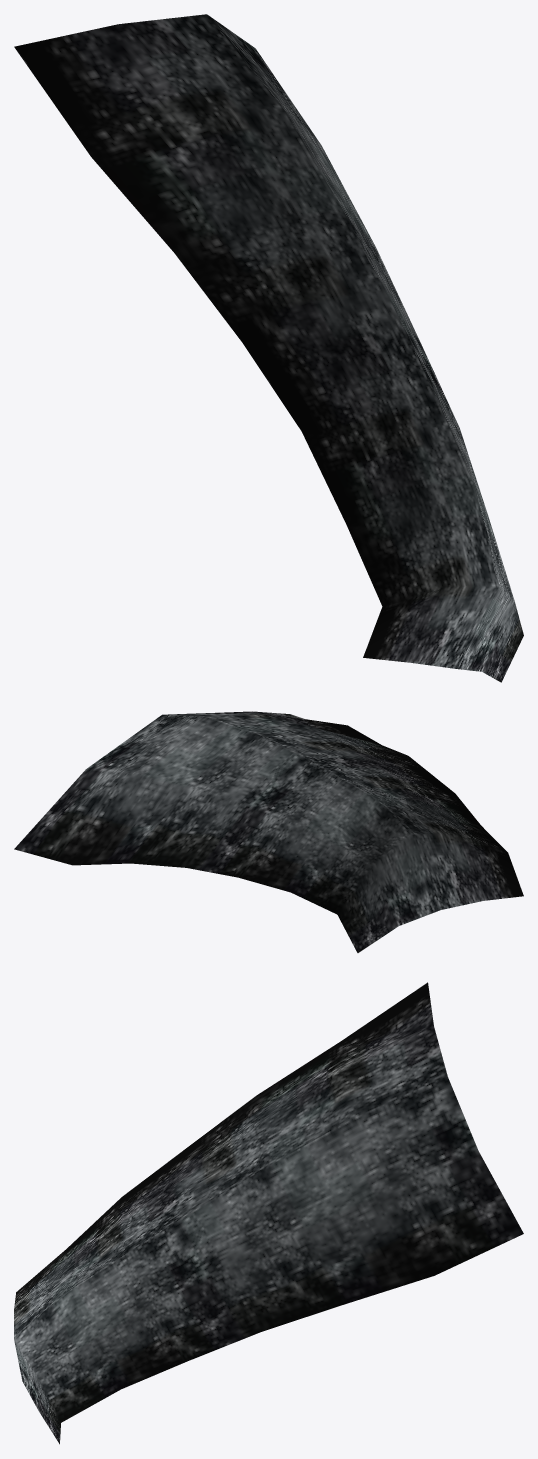
File: water26.obj
3 renders of one model, top to bottom at view 1: azimuth 30°, elevation 25°; view 2: azimuth 150°, elevation 25°; view 3: azimuth 270°, elevation 25°, orthographic. The views are drawn at different scales.
Visible parts, largest first — view 1: water26; view 2: water26; view 3: water26.
Part boxes in pixels (bbox=[...]): water26: bbox=[14, 14, 523, 682]; water26: bbox=[14, 711, 523, 952]; water26: bbox=[14, 982, 523, 1444].
Size of the model in its own units: 190 by 281 by 345.
